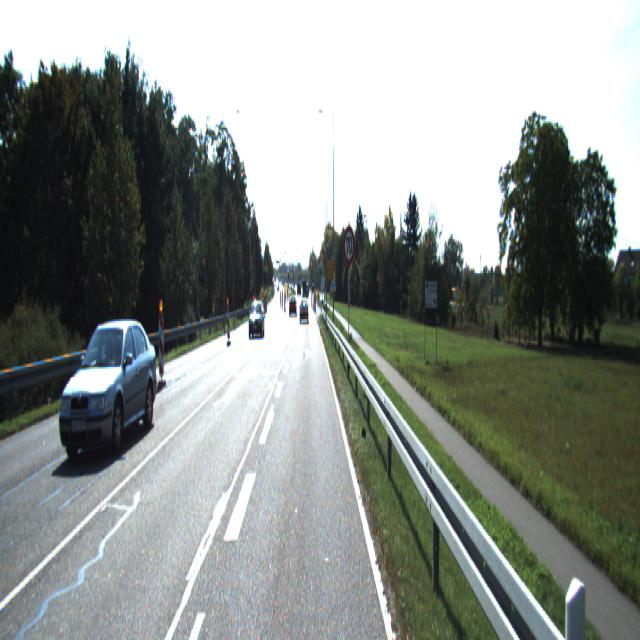Car: (56, 310, 160, 468), (248, 300, 265, 340), (300, 300, 308, 324)
